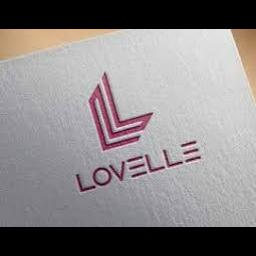l: (86, 66, 162, 154), (70, 172, 96, 196)
o: (91, 164, 113, 188)
v: (108, 160, 126, 184)
